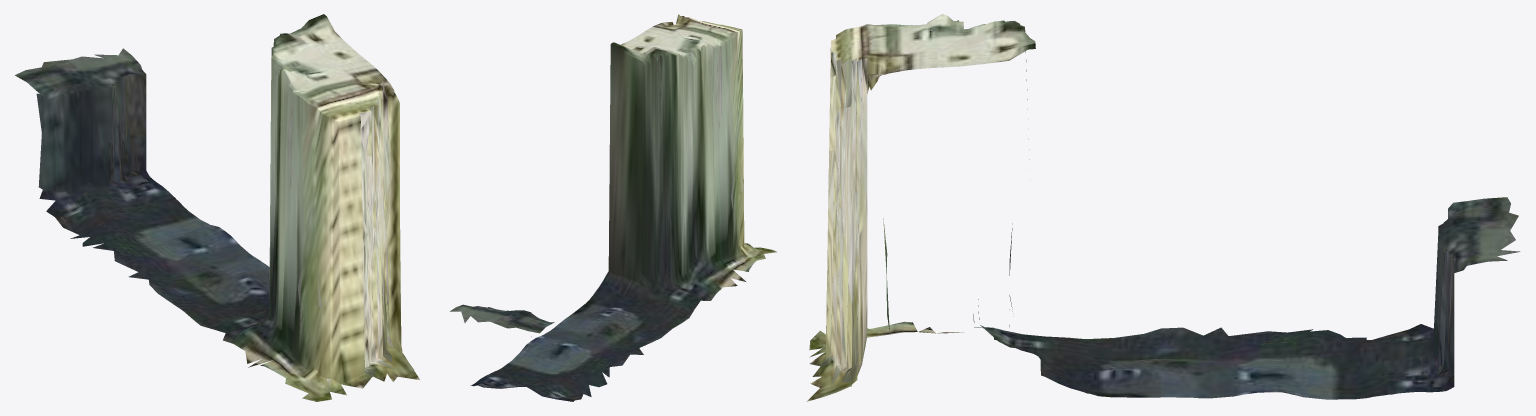
The model's file is Tile_001_000_L14_343.glb.
3 renders of one model, left to right at view 1: azimuth 30°, elevation 25°; view 2: azimuth 150°, elevation 25°; view 3: azimuth 270°, elevation 25°, orthographic. The views are drawn at different scales.
Visible parts, largest first — view 1: rtc; view 2: rtc; view 3: rtc.
Part boxes in pixels (left/top/right/bottom): rtc: left=15, top=14, right=419, bottom=401; rtc: left=450, top=14, right=776, bottom=401; rtc: left=806, top=14, right=1520, bottom=401.
Bounding box in the file's own units: 16.48 × 38.47 × 70.11.
Materials: 1 (1 with a texture image).
